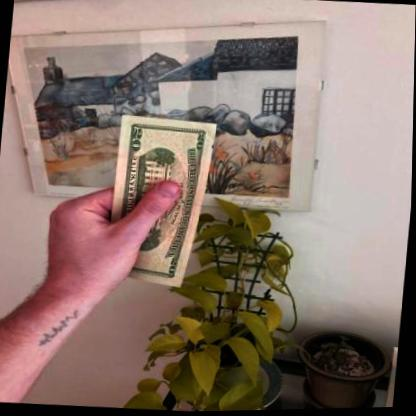twenty-back: (105, 114, 218, 292)
